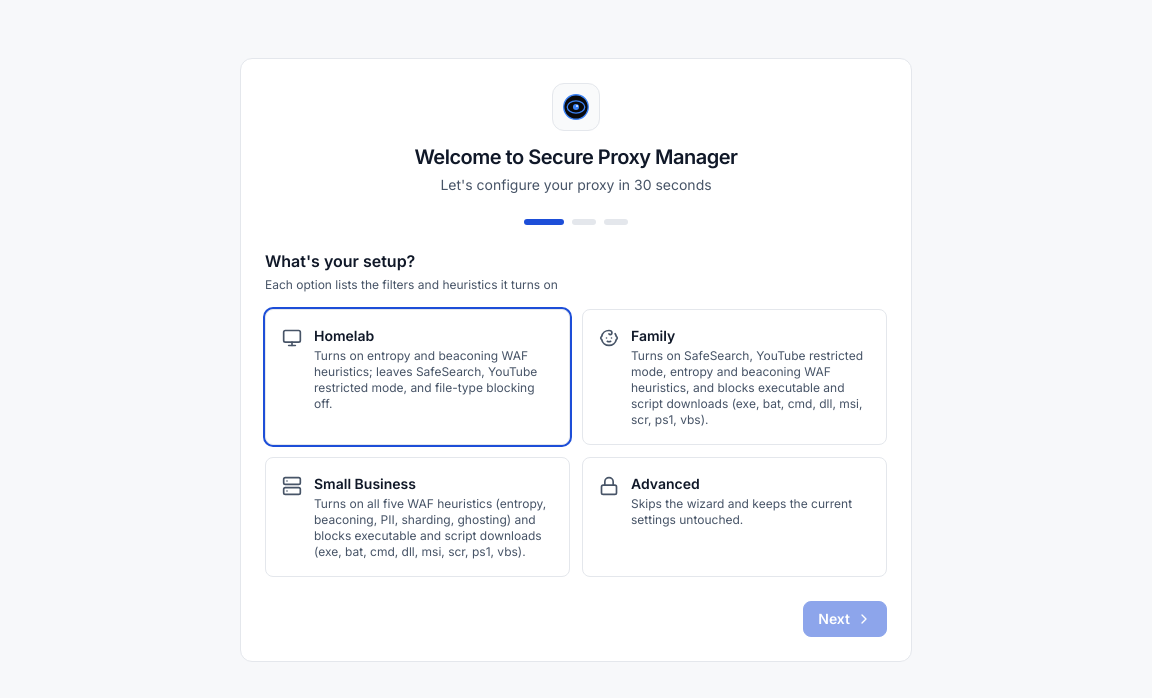
Test: SetupWizard › does not claim the proxy is live when reload-config responds pending, and points to Settings, Admin and backup, Reload the proxy
Click the text "Homelab" at x=344, y=336, box [314, 327, 374, 344]
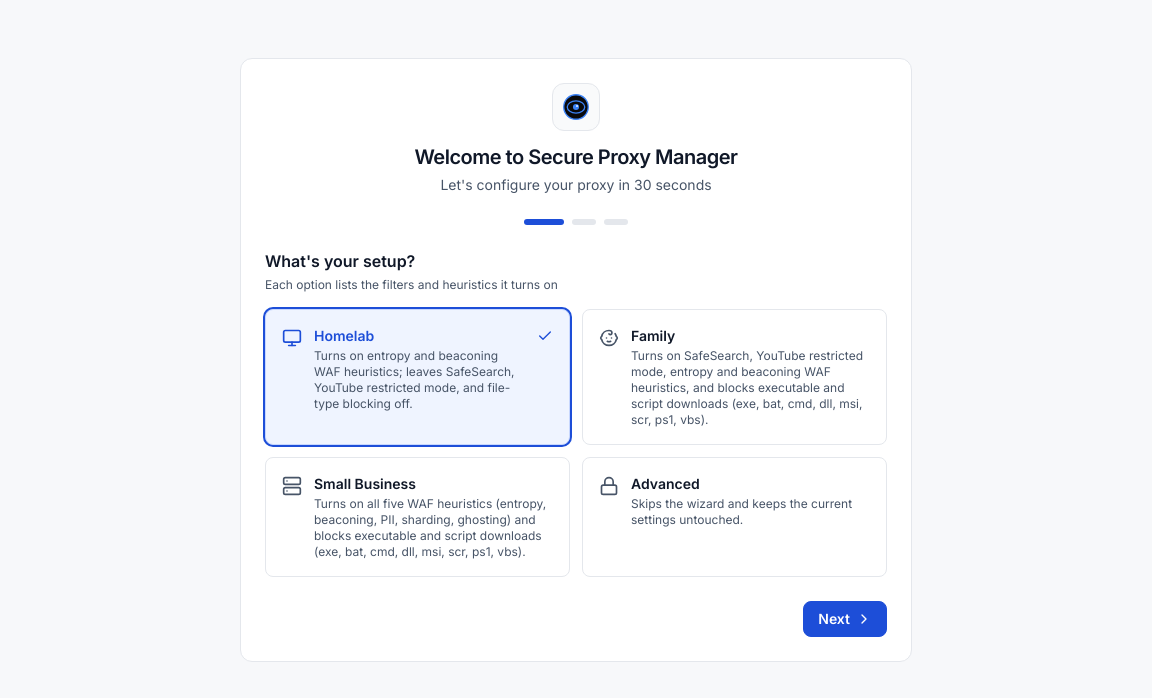
Click the button "Next" at x=845, y=619, box [803, 601, 887, 637]
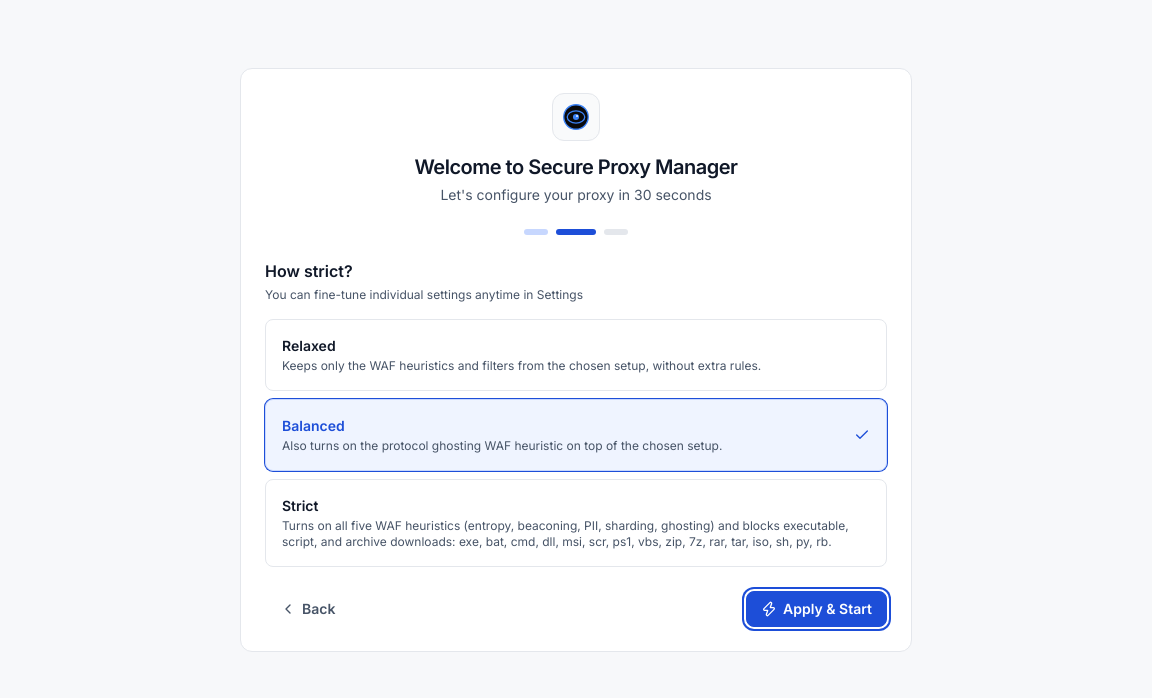
Click the button "Apply & Start" at x=817, y=609, box [746, 591, 887, 627]
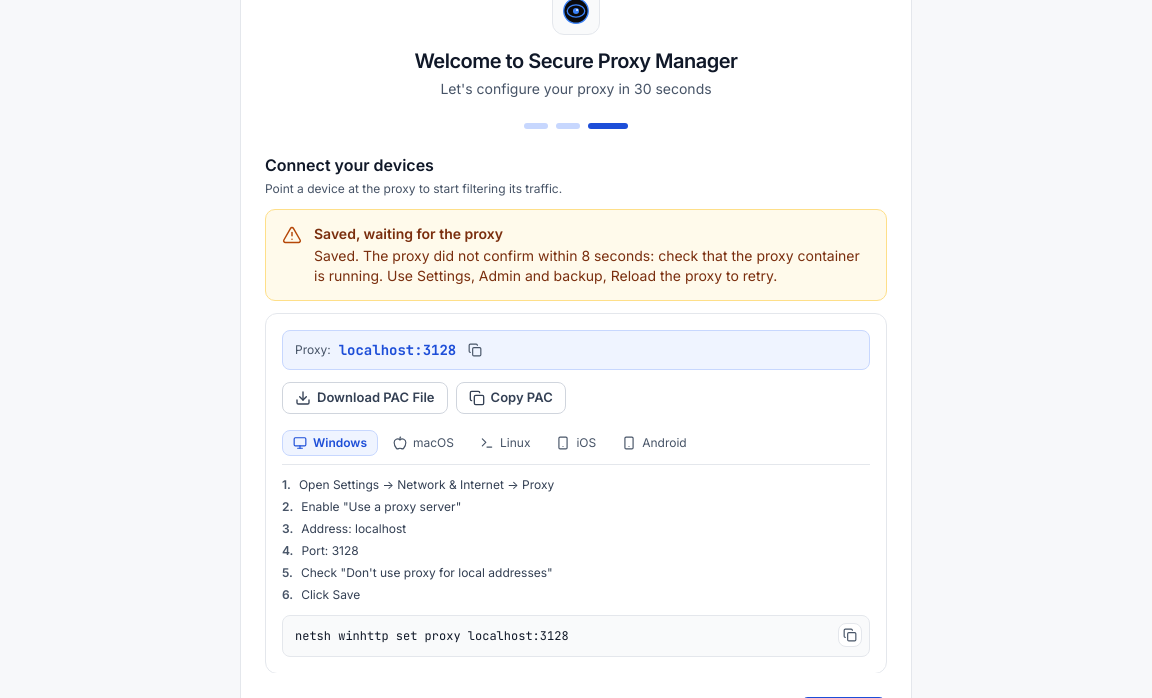
Expected: the text "Settings, Admin and backup, Reload the proxy" is shown, [314, 247, 860, 284]
